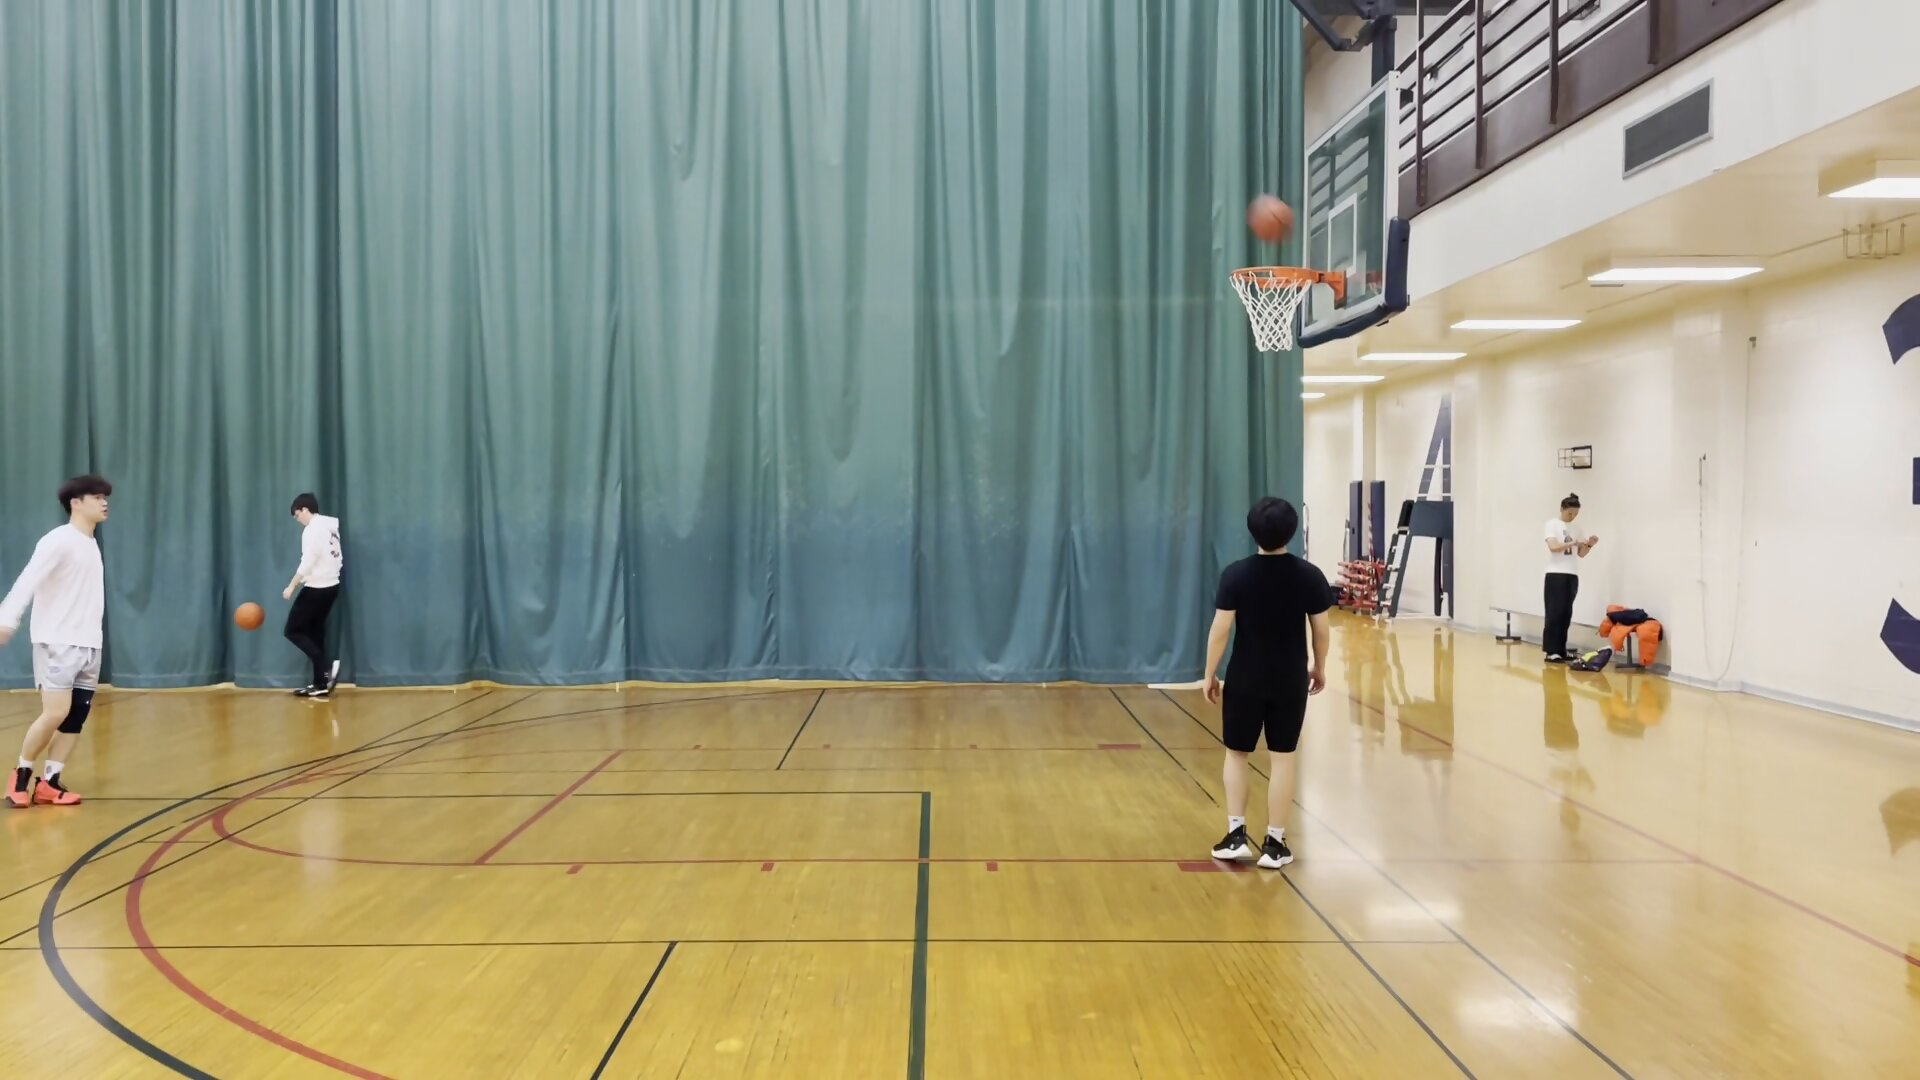ball: (1243, 191, 1297, 245), (231, 598, 267, 636)
net: (1240, 317, 1312, 358)
player: (1198, 492, 1334, 883), (1, 474, 143, 814), (282, 491, 350, 706), (1536, 492, 1601, 664)
rim: (1226, 262, 1324, 293)
